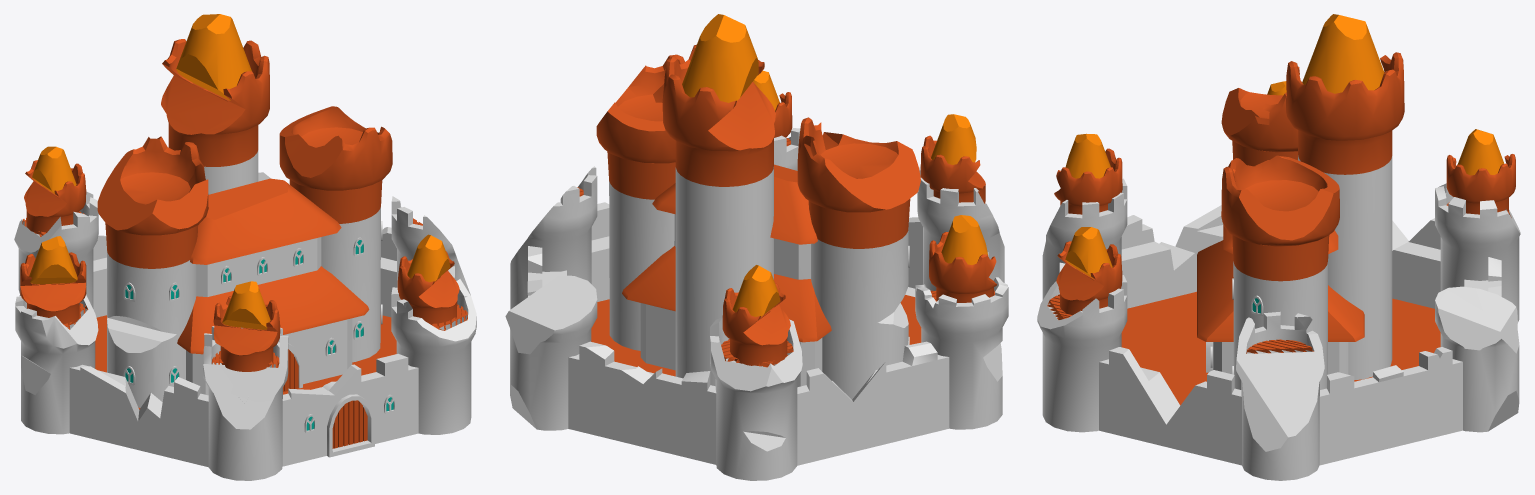
Rendered from Hex_Castle_Upgrade2_Stage2.fbx.
3 renders of one model, left to right at view 1: azimuth 30°, elevation 25°; view 2: azimuth 150°, elevation 25°; view 3: azimuth 270°, elevation 25°, orthographic. The views are drawn at different scales.
Visible parts, largest first — view 1: Hexagon_Castle_Upgrade2_Stage2; view 2: Hexagon_Castle_Upgrade2_Stage2; view 3: Hexagon_Castle_Upgrade2_Stage2.
Part boxes in pixels (x1,y1,x2,y2): Hexagon_Castle_Upgrade2_Stage2: (14, 14, 476, 480); Hexagon_Castle_Upgrade2_Stage2: (505, 14, 1008, 480); Hexagon_Castle_Upgrade2_Stage2: (1037, 14, 1520, 480).
Bounding box in the file's own units: 1117 × 809 × 1001.
1 material, 1 textured.
